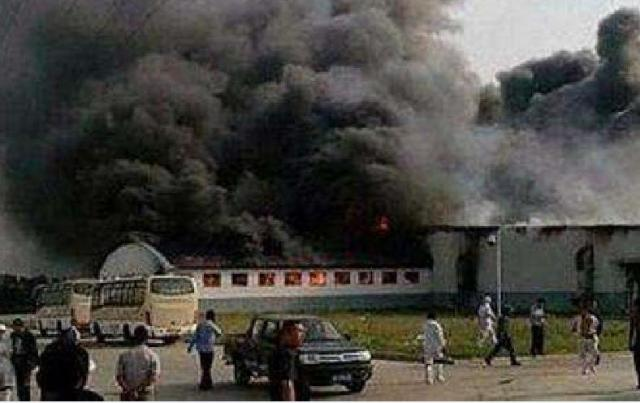smoke: (1, 0, 251, 255), (255, 1, 425, 264), (504, 52, 594, 227), (430, 1, 492, 224), (596, 2, 636, 227)
